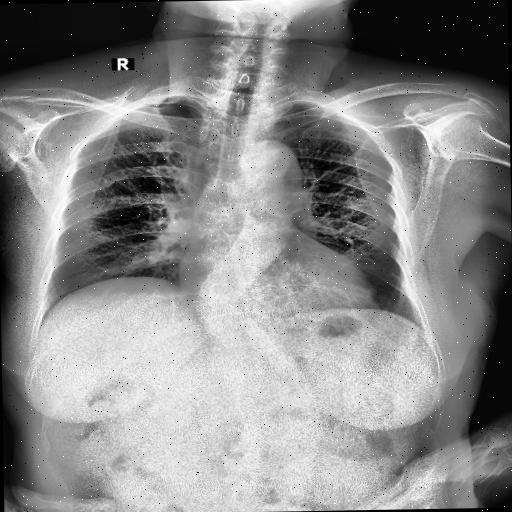0- Aortic enlargement: (245, 140, 302, 196), (252, 140, 304, 196), (246, 138, 302, 186)
13- Pulmonary fibrosis: (370, 241, 384, 250)
3- Cardiomegaly: (180, 245, 380, 317), (176, 251, 378, 319)
